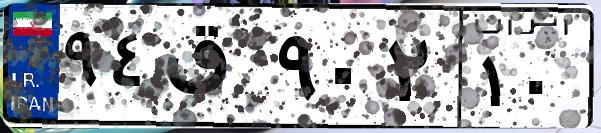0: (330, 28, 385, 110), (525, 38, 570, 115)
1: (475, 38, 525, 113)
2: (385, 28, 445, 110)
4: (110, 28, 158, 98)
9: (270, 28, 330, 110), (57, 26, 110, 100)
ق: (158, 20, 270, 120)
